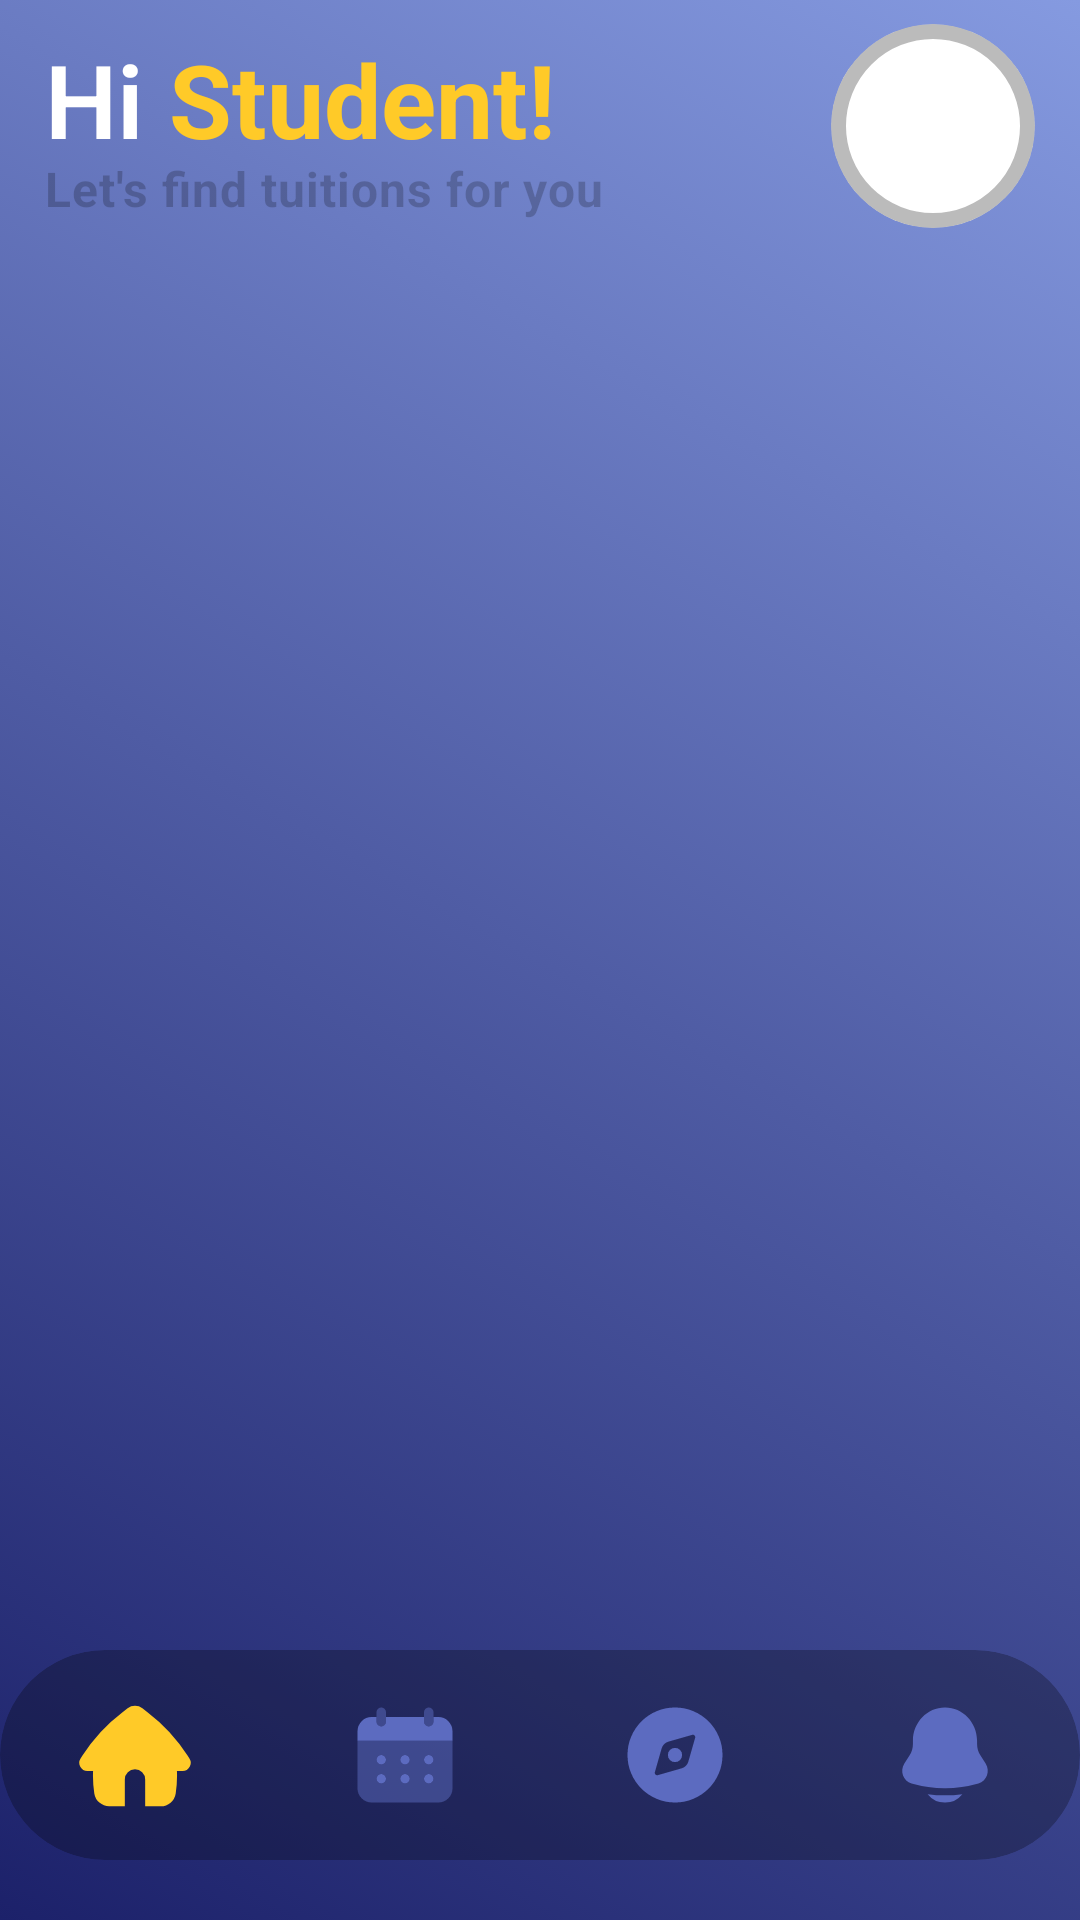

Icons on this 1080x1920 Android screen, each with the point to tap as point (x, y):
bell: point (945, 1755)
calendar: point (405, 1755)
compass: point (675, 1755)
home: point (135, 1755)
